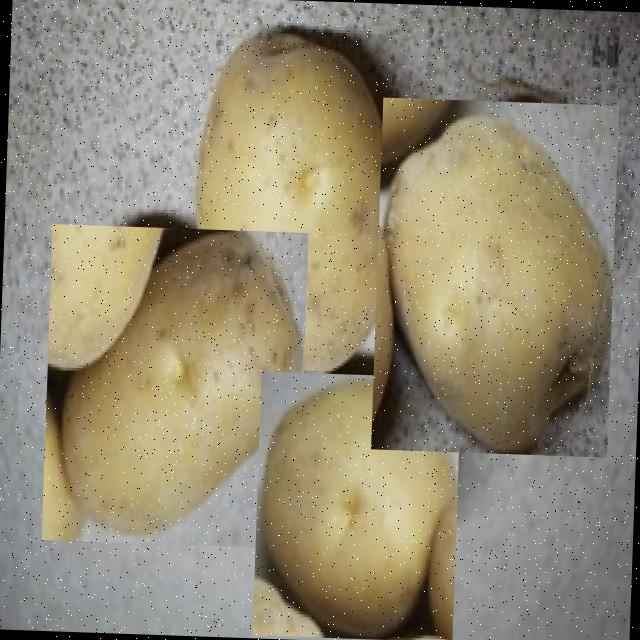Potato: (370, 96, 618, 456), (40, 222, 307, 548), (187, 24, 409, 382), (251, 370, 460, 640)
